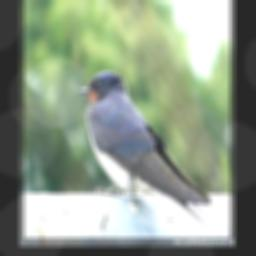Swallow: (78, 70, 228, 244)
